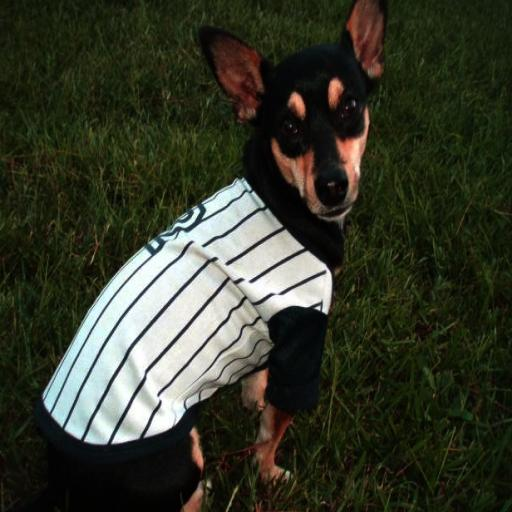dog_face: (202, 0, 389, 218)
